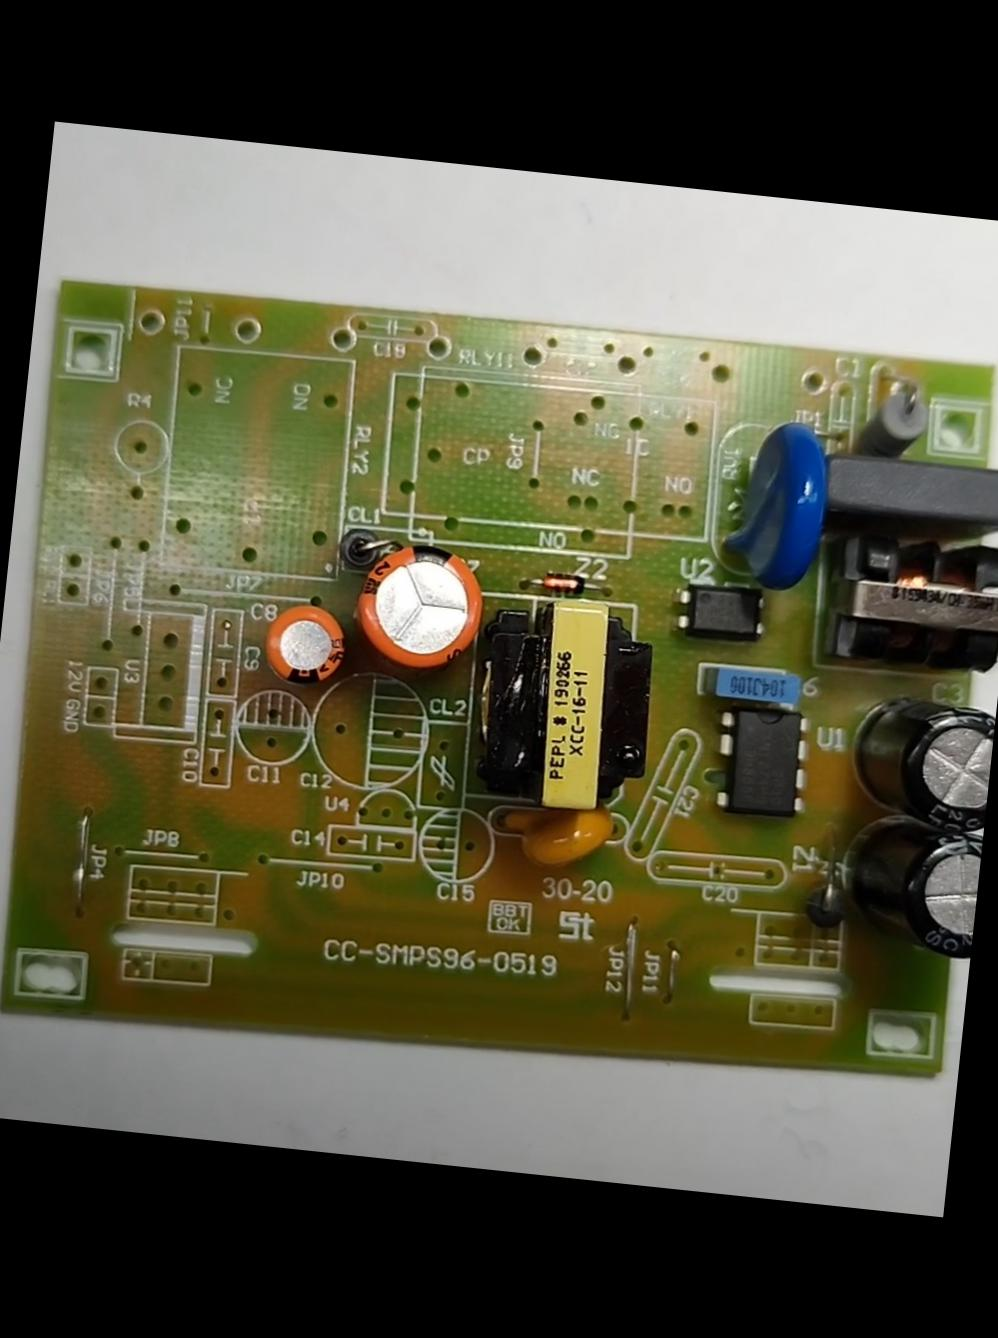Cap1: (346, 528, 498, 674)
Cap2: (259, 598, 351, 688)
Cap3: (846, 691, 996, 826)
Cap4: (833, 820, 982, 964)
MOSFET: (700, 697, 817, 824)
Mov: (704, 404, 843, 592)
Resistor: (851, 376, 934, 456)
Transformer: (470, 592, 665, 818), (822, 519, 997, 676)
